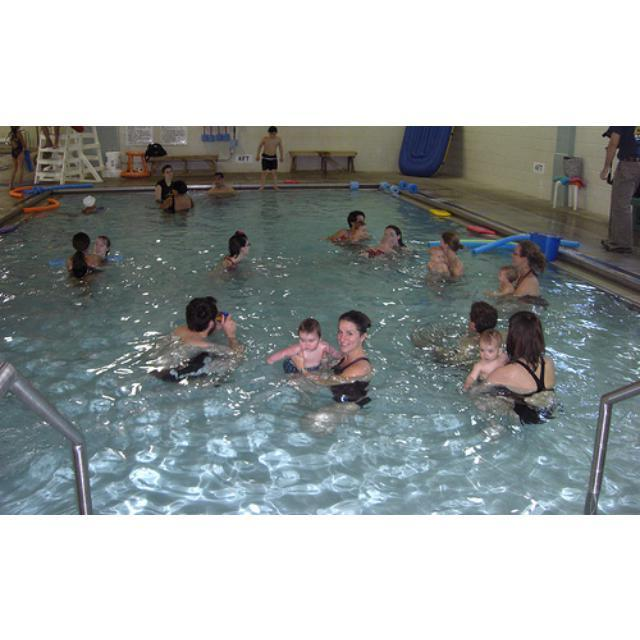human: (465, 310, 557, 411), (150, 295, 242, 370), (331, 310, 374, 412), (270, 315, 328, 380), (477, 240, 538, 301), (431, 230, 469, 279), (73, 229, 105, 275), (335, 210, 378, 243), (229, 228, 263, 268), (383, 223, 422, 257), (160, 180, 194, 217), (464, 300, 499, 334), (157, 162, 177, 196), (77, 192, 103, 216), (211, 170, 231, 195), (105, 233, 122, 258)
